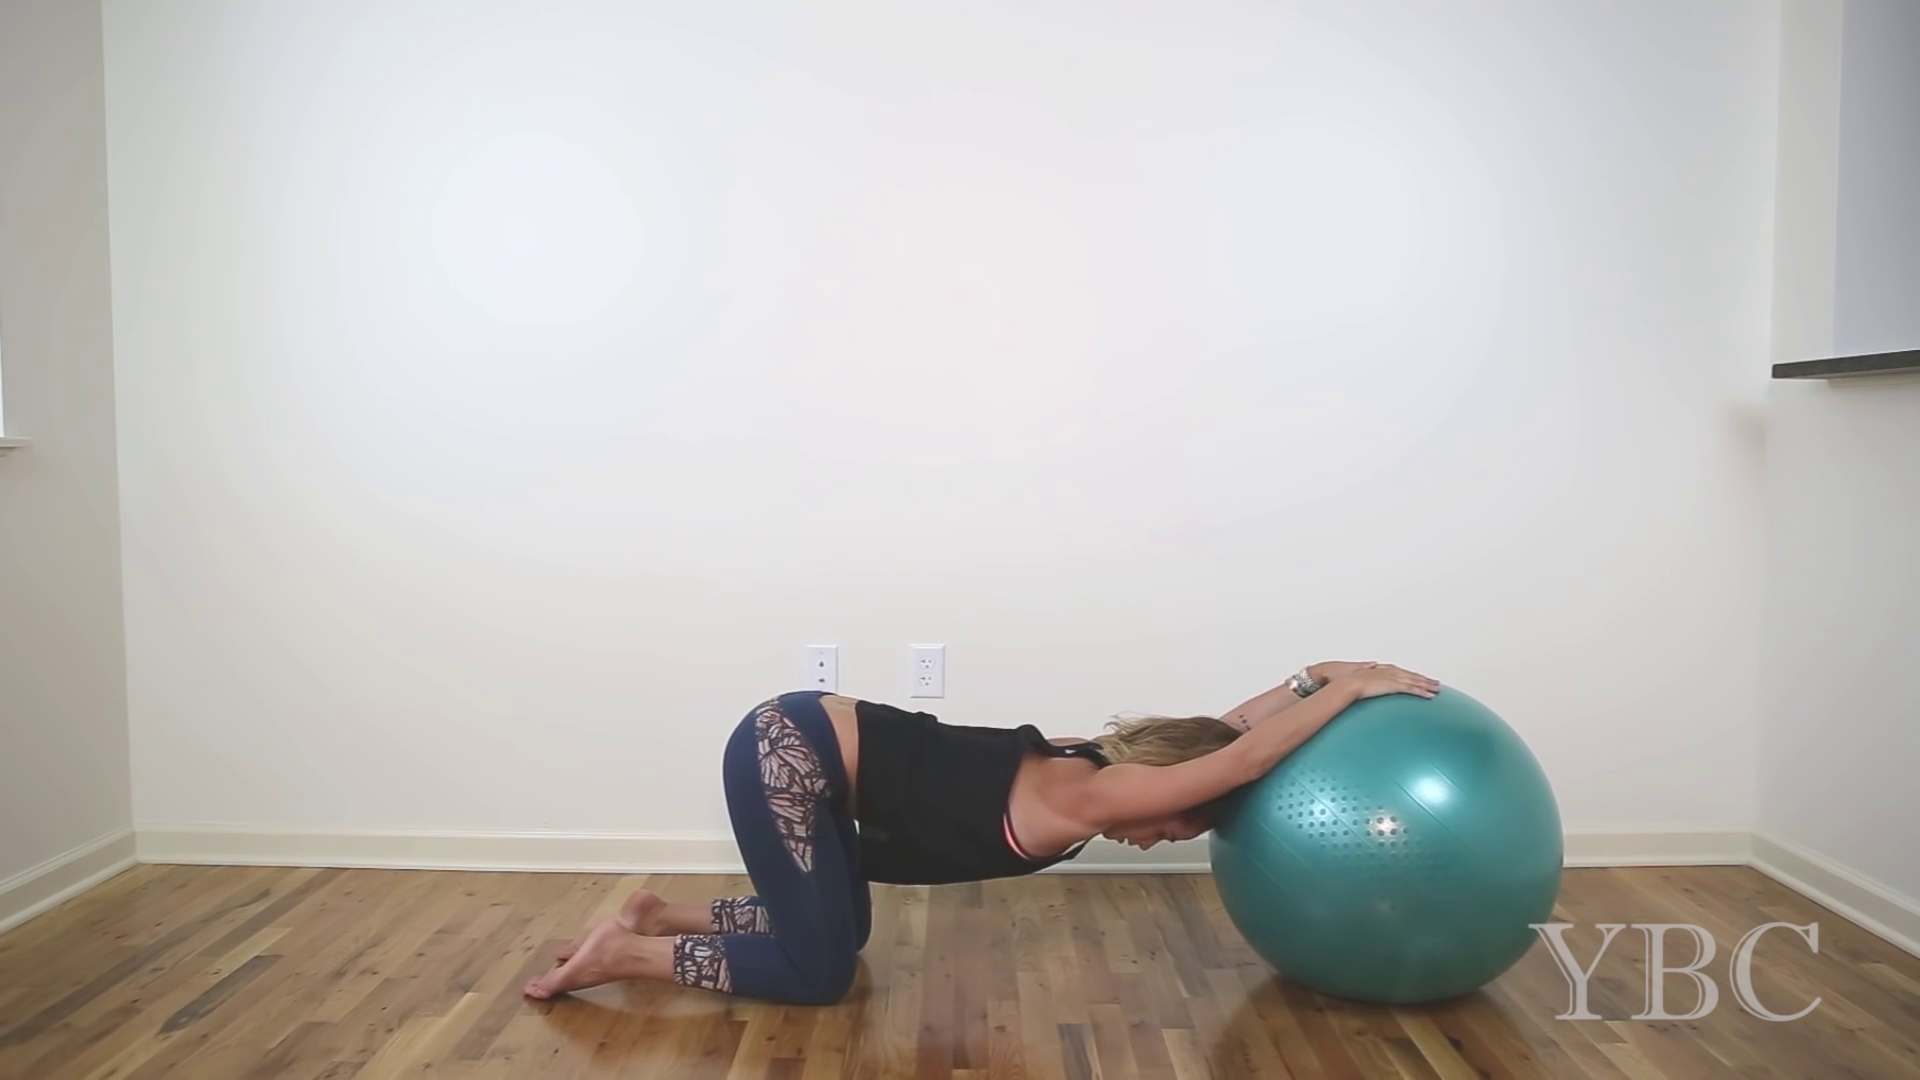yogaball: (1211, 658, 1573, 1021)
